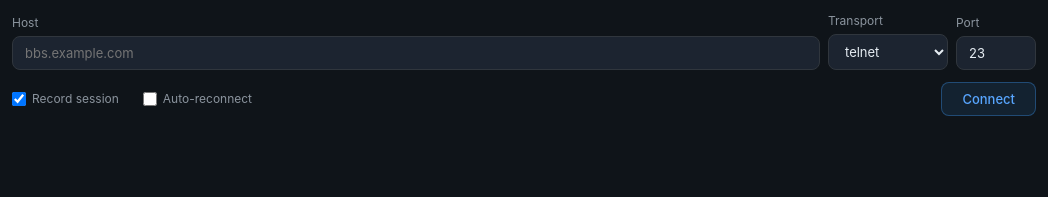
Scenario: connect workflow › adapts fields when switching between SSH and local shell
Select "ssh" in the dropdown at [888, 52], box [828, 34, 948, 70]
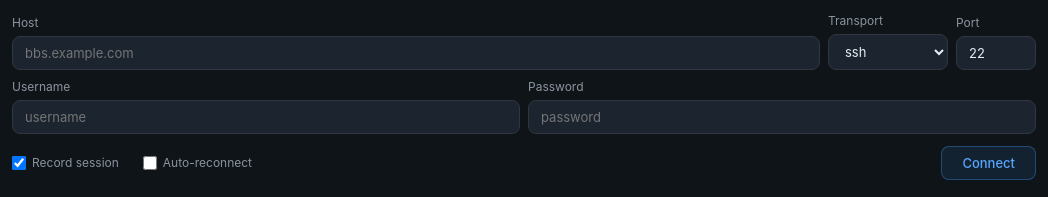
Result: the field with placeholder "23" holds "22" at [956, 36, 1036, 70]
Result: the field with placeholder "Username" is enabled at [12, 100, 520, 134]
Select "shell" in the dropdown at [888, 52], box [828, 34, 948, 70]
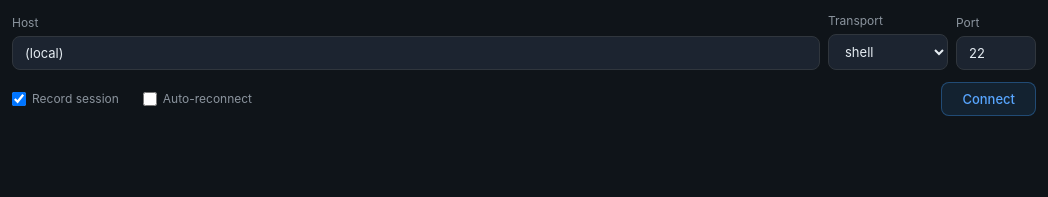
Result: the field with placeholder "bbs.example.com" is disabled at [12, 36, 820, 70]
Result: the field with placeholder "bbs.example.com" holds "(local)" at [12, 36, 820, 70]
